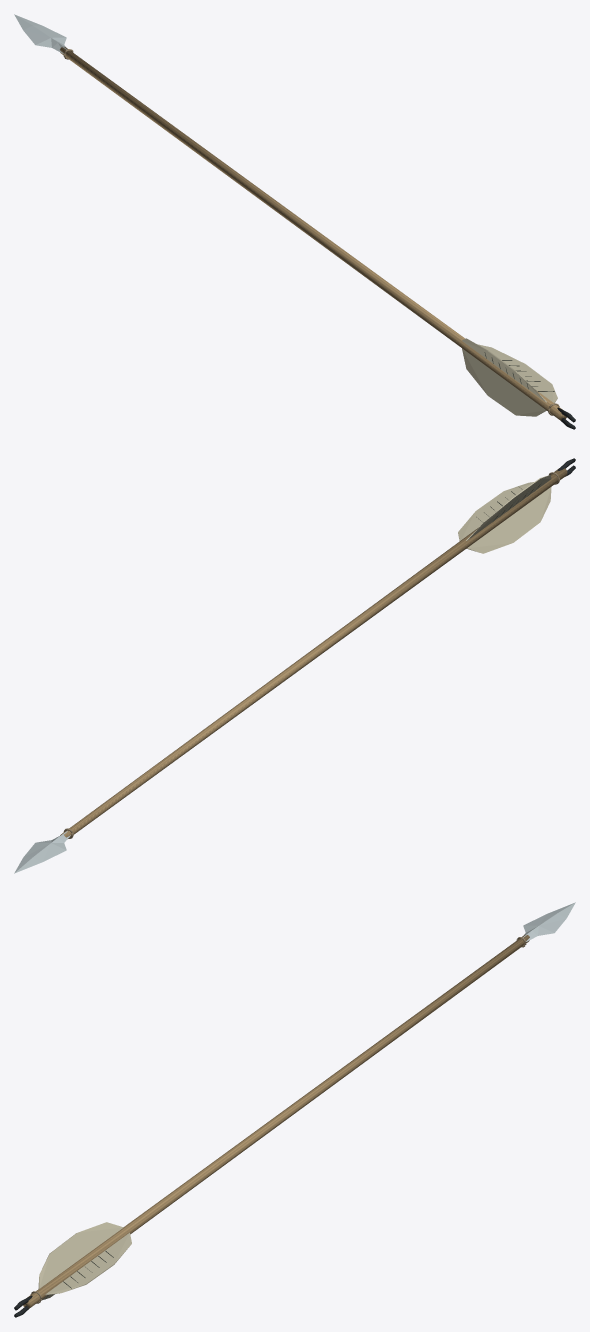
File: arrow_lod1.glb
The picture shows the model from 3 angles, top to bottom: view 1: azimuth 30°, elevation 25°; view 2: azimuth 150°, elevation 25°; view 3: azimuth 330°, elevation 25°; orthographic projection.
Visible parts, largest first — view 1: ArrowMesh_LOD1; view 2: ArrowMesh_LOD1; view 3: ArrowMesh_LOD1.
Part boxes in pixels (left/top/right/bottom): ArrowMesh_LOD1: left=14, top=14, right=575, bottom=429; ArrowMesh_LOD1: left=14, top=458, right=575, bottom=873; ArrowMesh_LOD1: left=14, top=902, right=575, bottom=1317.
Bounding box in the file's own units: 0.0335 × 0.0359 × 0.8002.
Materials: 6 (2 with a texture image).
